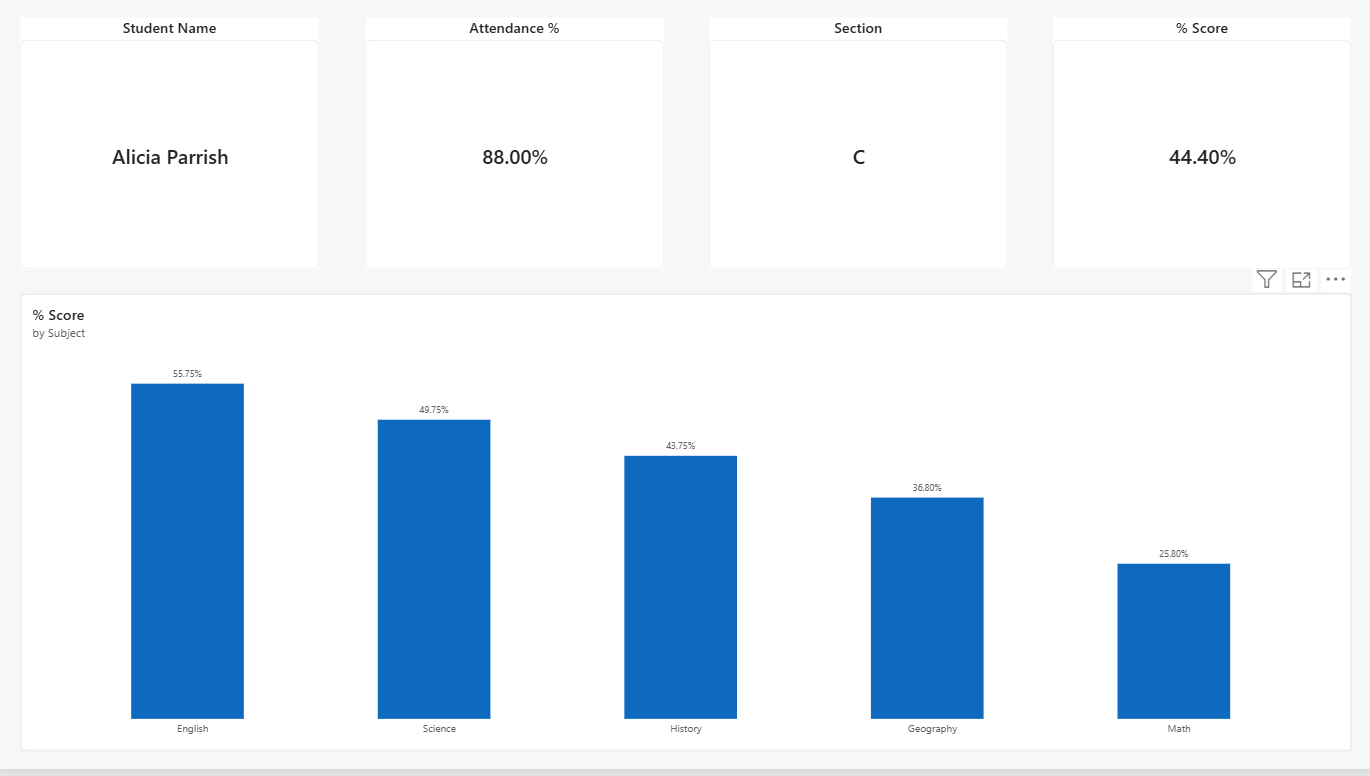

Layout of this report page (visuals, bound fields, positions):
{"tool":"powerbi","page":{"name":"Student Profile","canvas":[1920,1080],"ordinal":1},"visuals":[{"type":"cardVisual","title":"Student Name","fields":{"Data":["Min(Students.Name)"]},"box":[32,32,416,352],"z":0},{"type":"columnChart","fields":{"Category":["Scores.Subject"],"Y":["Measures_Table.% Score"]},"box":[31.4,416.9,1857.6,638.4],"z":1000},{"type":"cardVisual","title":"Section","fields":{"Data":["Min(Students.Section)"]},"box":[992,32,416,352],"z":3000},{"type":"cardVisual","title":"% Score","fields":{"Data":["Measures_Table.% Score"]},"box":[1472,32,416,352],"z":4000},{"type":"cardVisual","title":"Attendance % ","fields":{"Data":["Measures_Table.Attendance_%"]},"box":[512,32,416,352],"z":5000}]}

Visuals, with their boxes in screenshot pixels (x1, y1, x2, y2), scaled from the page's 1920x1080 canvas onto the 1370x776 screenshot:
"Student Name" cardVisual: [x1=23, y1=23, x2=320, y2=276]
columnChart - Scores.Subject x Measures_Table.% Score: [x1=22, y1=300, x2=1348, y2=758]
"Section" cardVisual: [x1=708, y1=23, x2=1005, y2=276]
"% Score" cardVisual: [x1=1050, y1=23, x2=1347, y2=276]
"Attendance % " cardVisual: [x1=365, y1=23, x2=662, y2=276]
